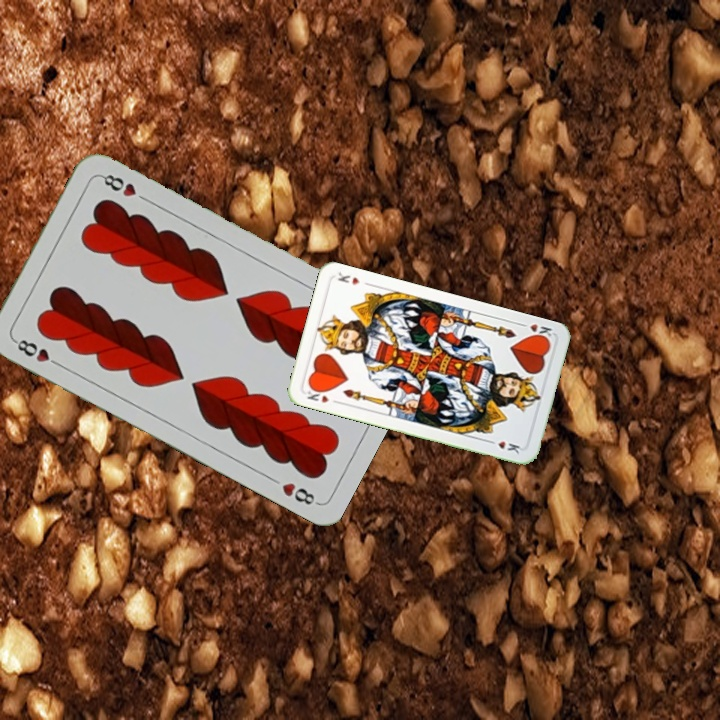H8: (10, 335, 64, 370)
HK: (515, 319, 555, 343), (301, 383, 331, 406)
